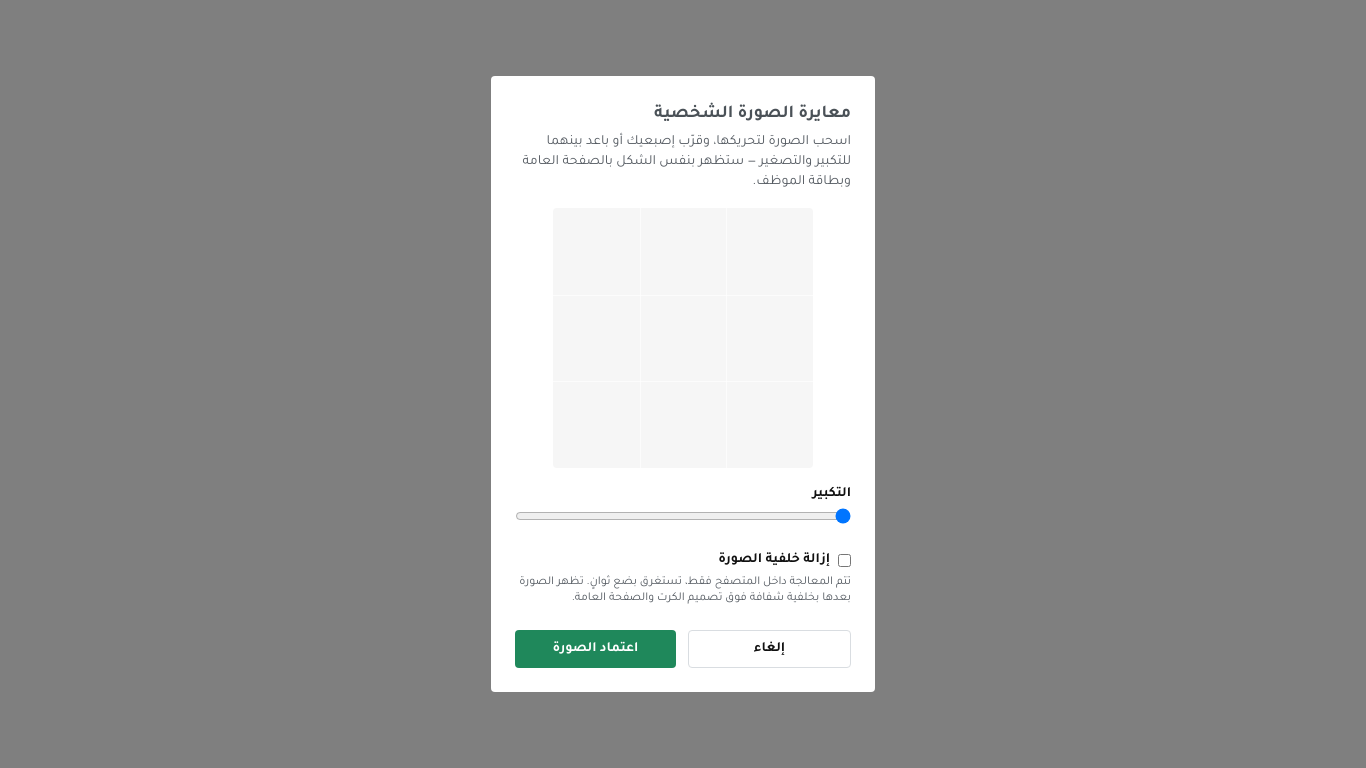
PhotoCropModal › remove background option › shows an error and does not confirm if background removal fails
The width and height of the screenshot is (1366, 768).
Step 1. Click the checkbox labelled "إزالة خلفية الصورة" → [844, 560], box [838,554,851,566]
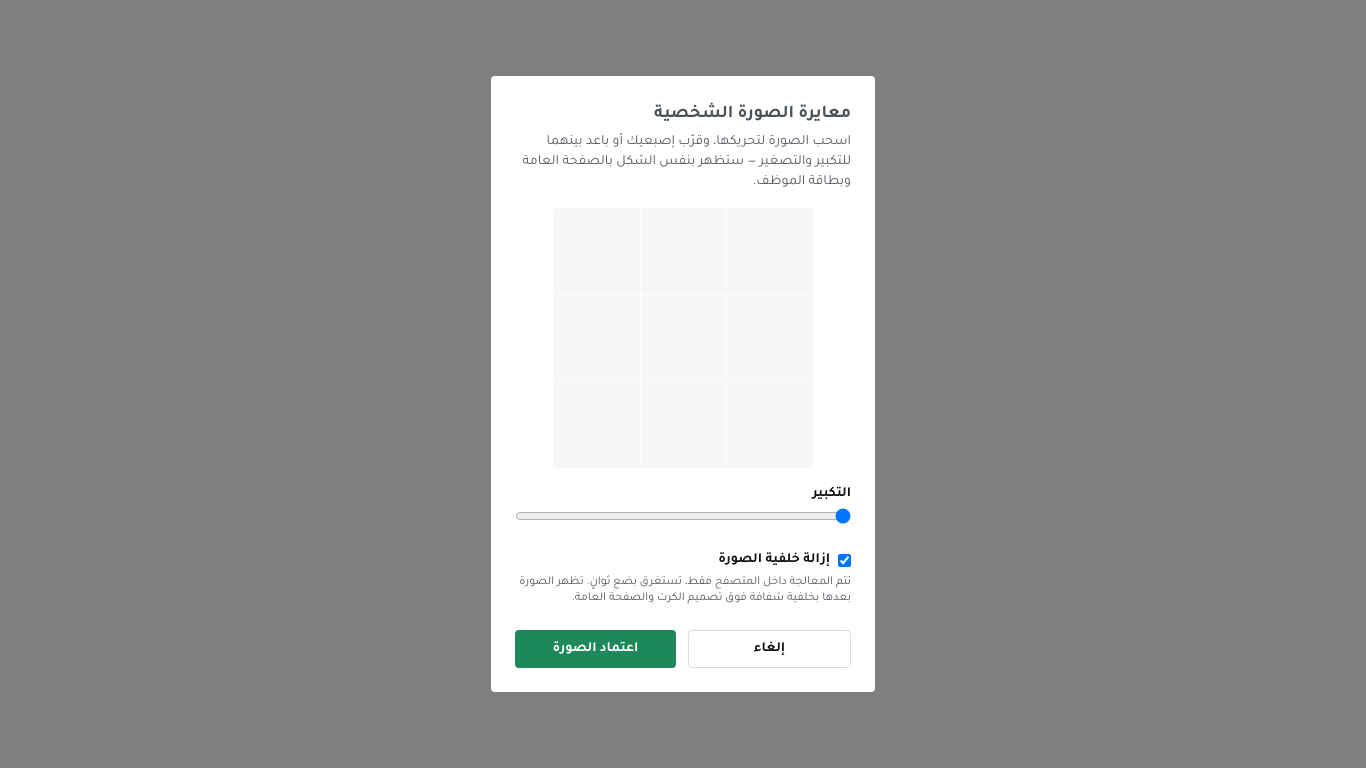
Step 2. Click the button "اعتماد الصورة" → [596, 649], box [515,630,676,668]
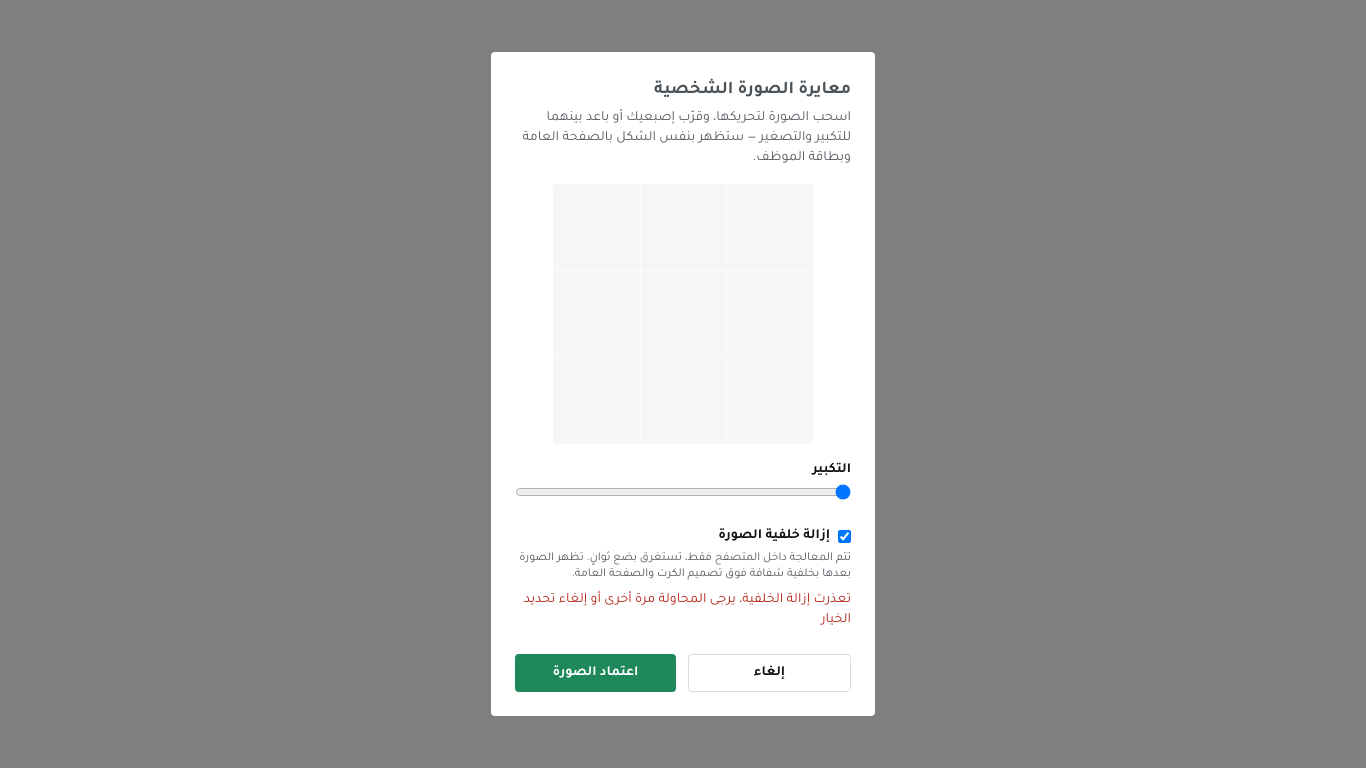
Expected: the text "تعذرت إزالة الخلفية، يرجى المحاولة مرة أخرى أو إلغاء تحديد الخيار" is shown, [515,590,851,630]
